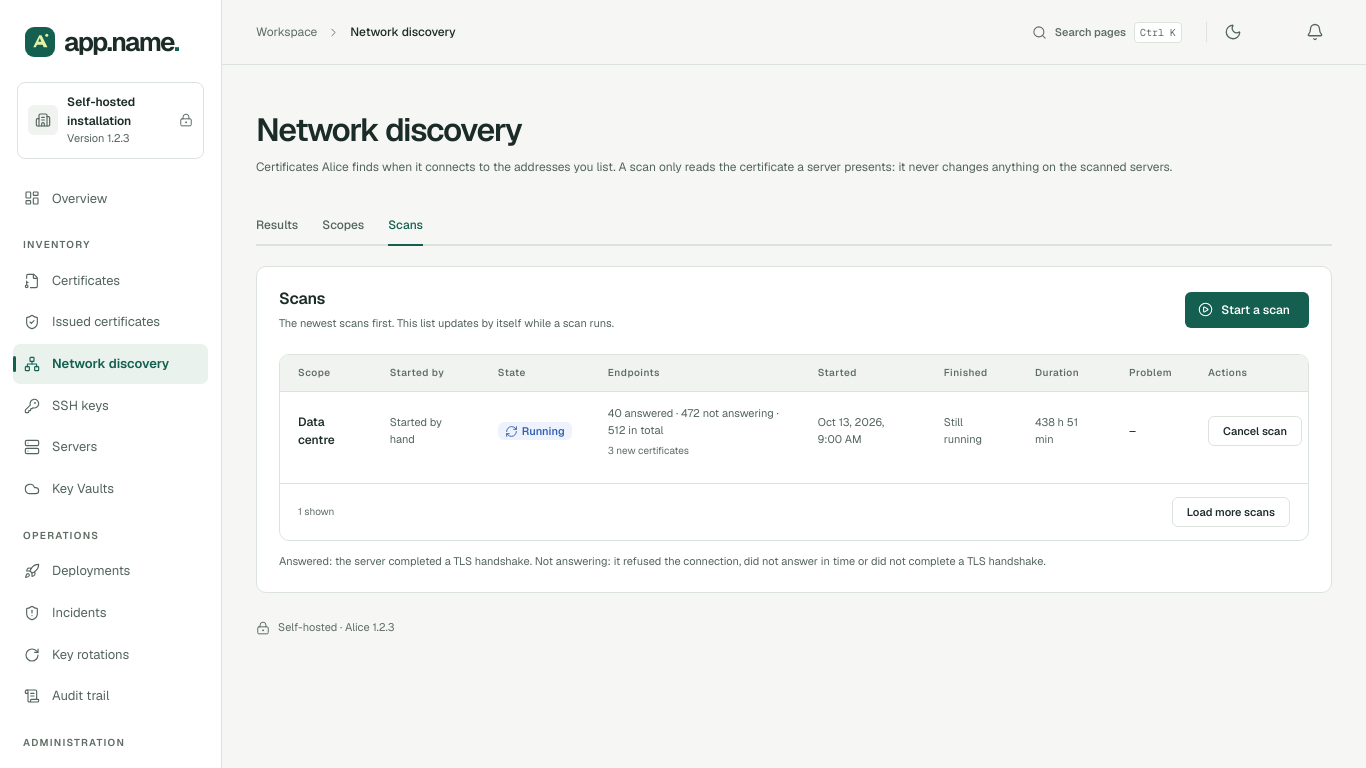
Scenario: Network discovery scans (review round) › polls only the first page, and loads older pages once
Expected: the table named "Scans" is shown, [280,355,1308,471]
Click the button "Load more scans" at (1231, 512), box [1172,497,1290,527]
Wait 9300 ms
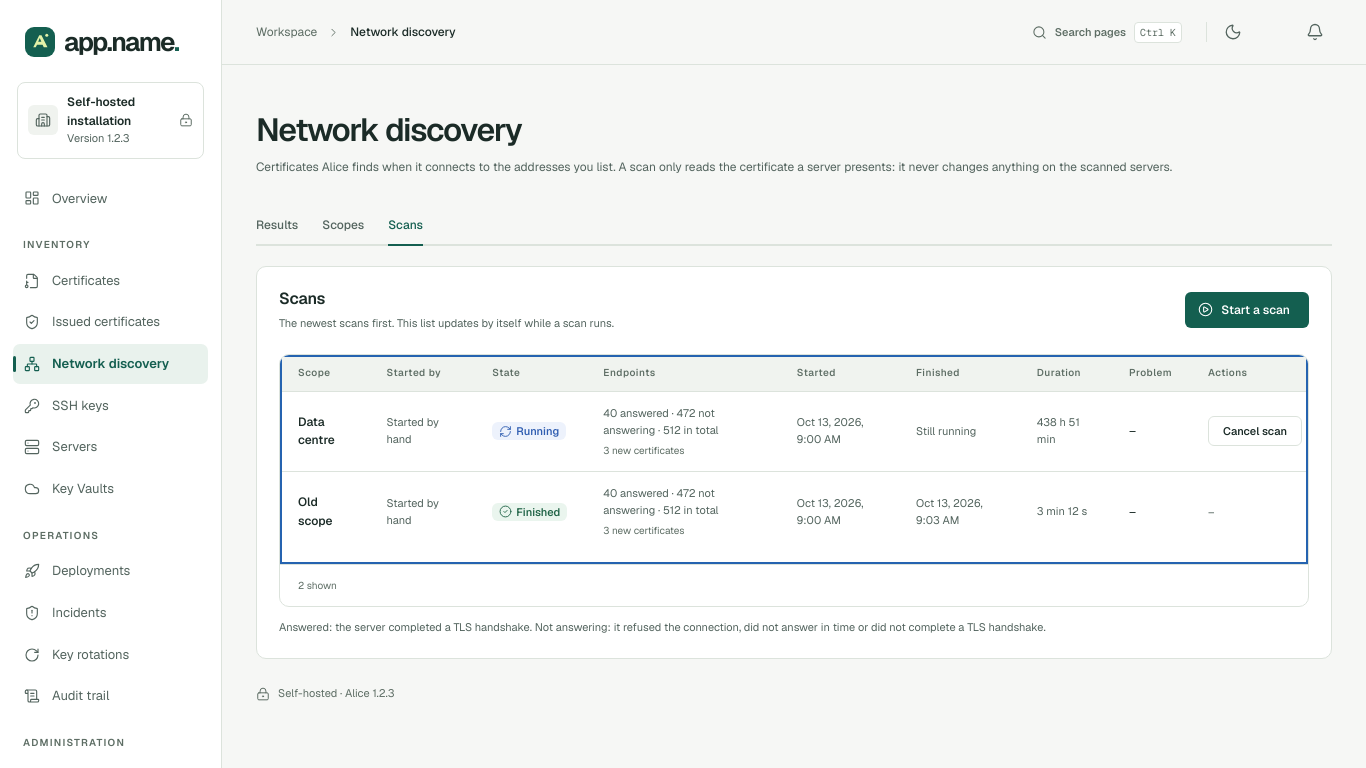
Now the text "Old scope" is shown, box [298,494,332,529]
Now the number of rows with test id "discovery-scan-row" is 2, box [280,391,1308,472]; [280,472,1308,552]
Now the button "Load more scans" is gone
